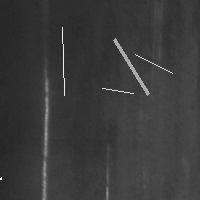scratches: (109, 34, 153, 99), (39, 67, 52, 199), (130, 49, 177, 78), (57, 22, 69, 100), (97, 83, 138, 98), (0, 173, 6, 188)
